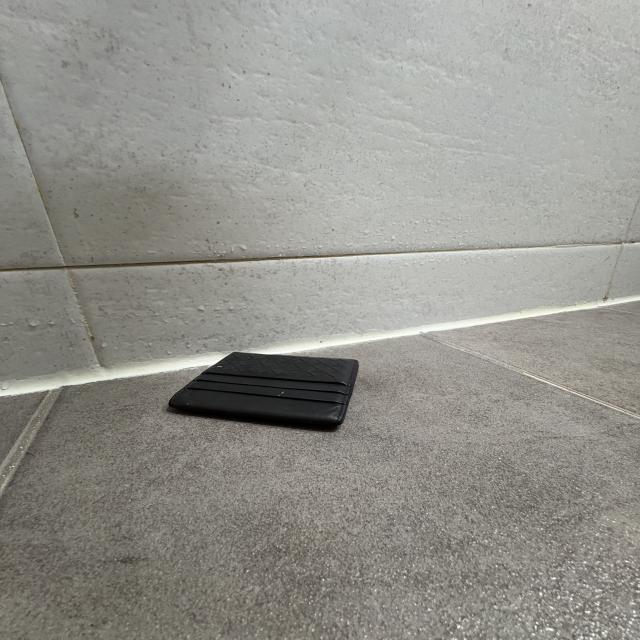wallet: (163, 349, 362, 434)
